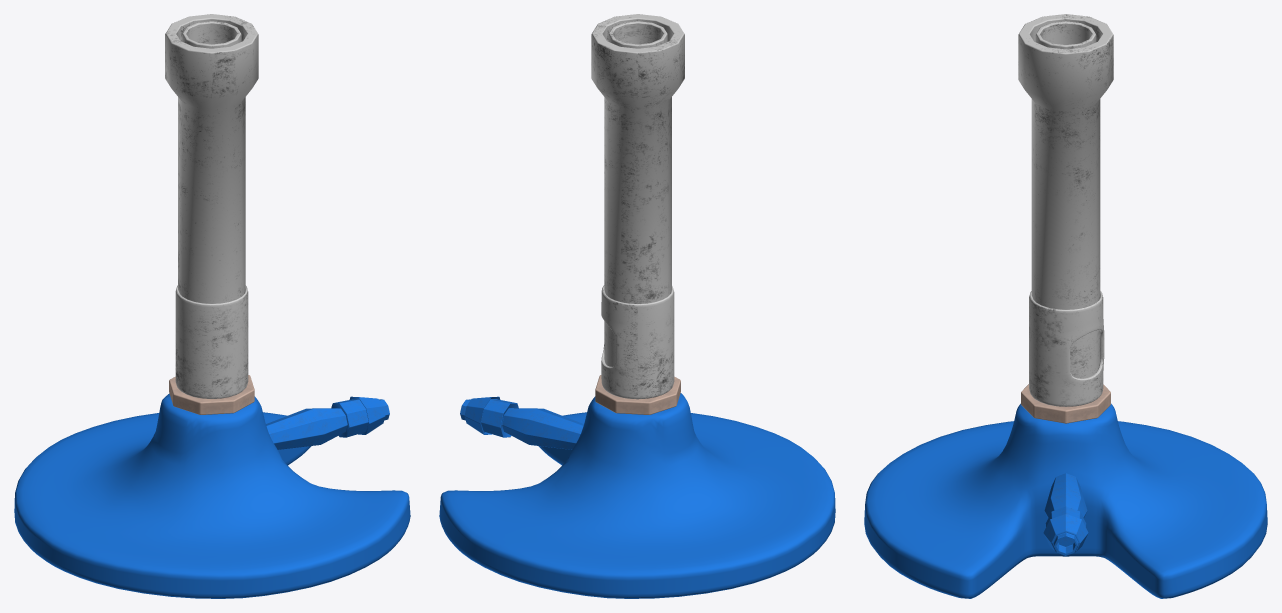
Rendered from bunsen_burner.fbx.
3 views of the same model, side by side, from view 1: azimuth 30°, elevation 25°; view 2: azimuth 150°, elevation 25°; view 3: azimuth 270°, elevation 25° (orthographic).
Parts seen in each view (by area): view 1: Bunsen_Burner_combined; view 2: Bunsen_Burner_combined; view 3: Bunsen_Burner_combined.
Boxes of the visible parts, x1=… form: Bunsen_Burner_combined: x1=14, y1=14, x2=410, y2=598; Bunsen_Burner_combined: x1=439, y1=14, x2=835, y2=598; Bunsen_Burner_combined: x1=864, y1=14, x2=1267, y2=598.
Size of the model in its own units: 4.54 by 6.15 by 4.52.
5 materials, 5 textured.
